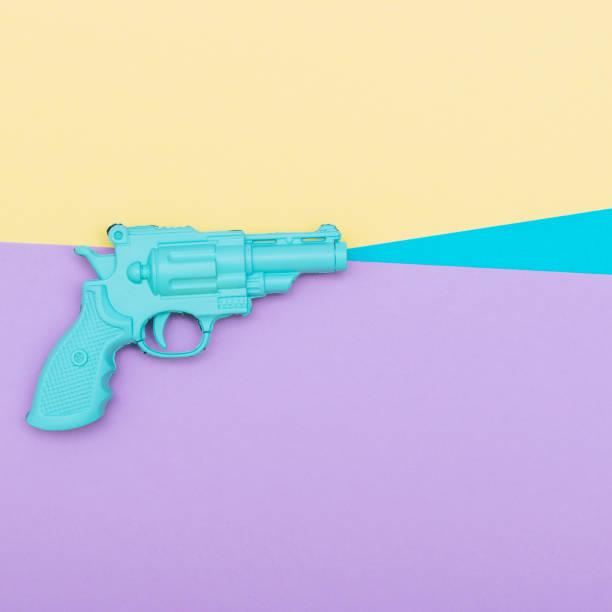weapon: (25, 217, 352, 436)
